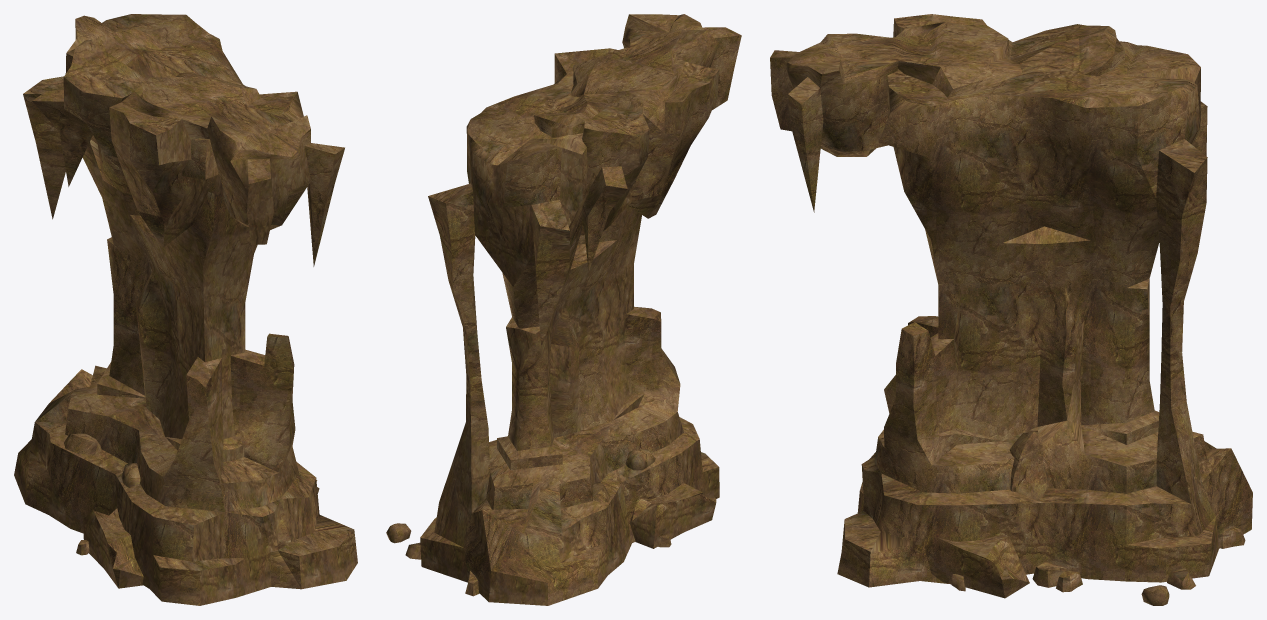
Rendered from S_Rock_Yellow002.FBX.
3 renders of one model, left to right at view 1: azimuth 30°, elevation 25°; view 2: azimuth 150°, elevation 25°; view 3: azimuth 270°, elevation 25°, orthographic. The views are drawn at different scales.
Parts seen in each view (by area): view 1: S_Rock_Yellow002; view 2: S_Rock_Yellow002; view 3: S_Rock_Yellow002.
Boxes of the visible parts, x1,y1,x2,y2 form: S_Rock_Yellow002: [14, 14, 357, 605]; S_Rock_Yellow002: [386, 14, 741, 605]; S_Rock_Yellow002: [770, 14, 1252, 605].
Bounding box in the file's own units: 621 × 1030 × 1153.
